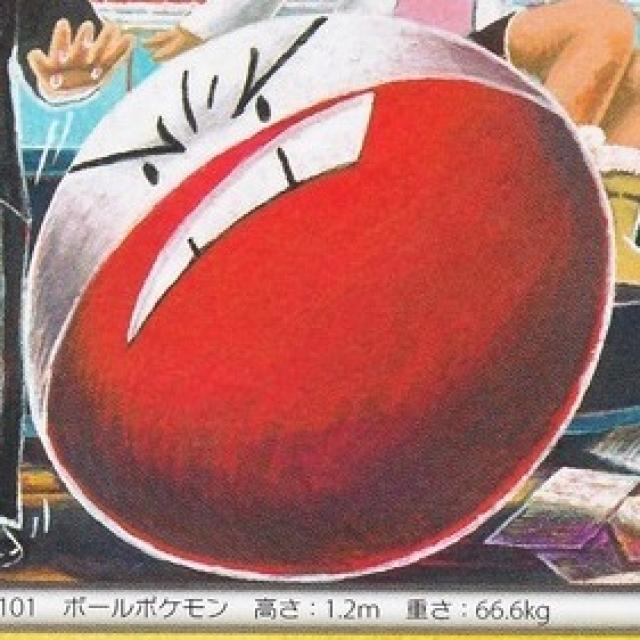Electrode: (13, 8, 616, 576)
